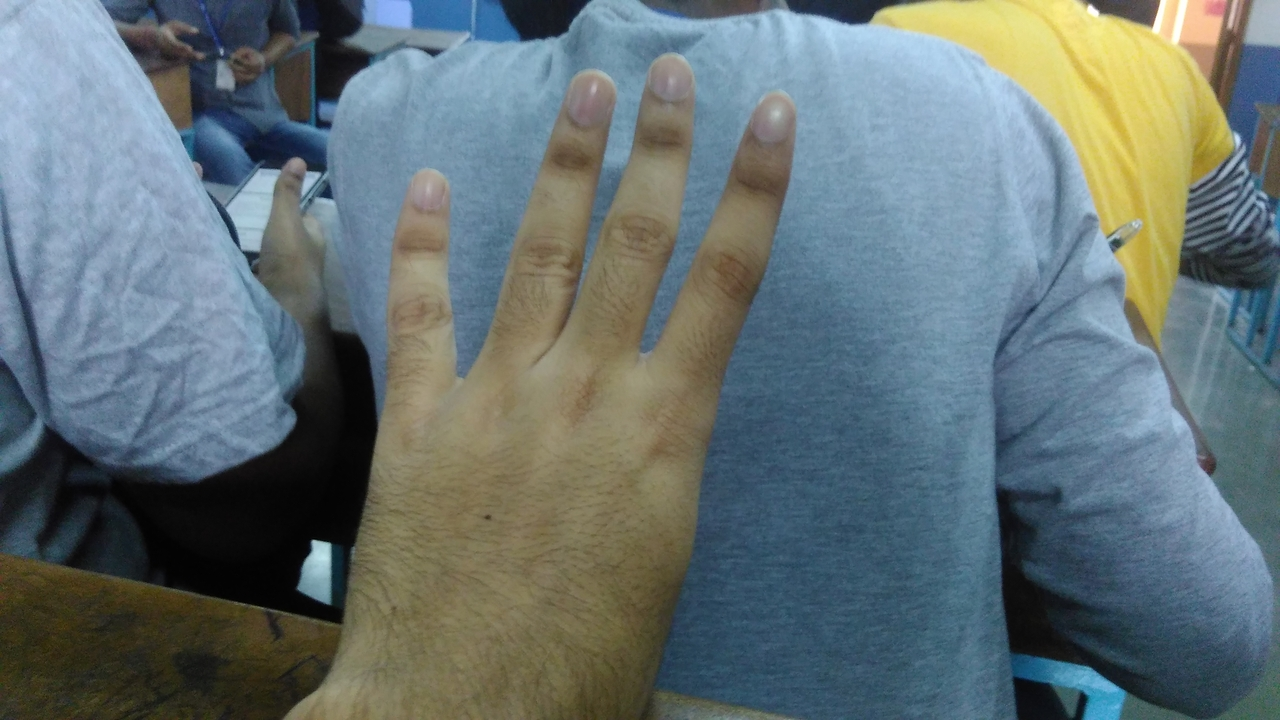fingertip: (742, 82, 806, 144), (556, 64, 614, 122), (392, 170, 450, 222), (642, 52, 696, 106)
